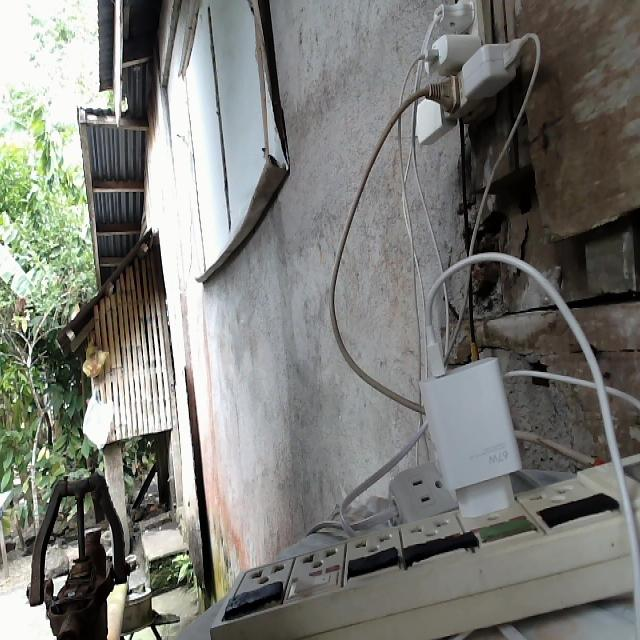-: (406, 0, 521, 147)
